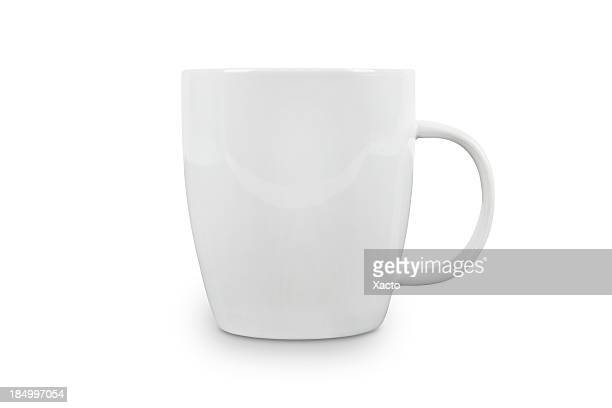cup: (177, 56, 499, 345)
